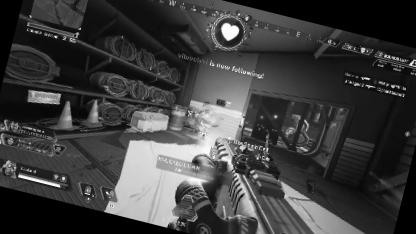Target: (192, 100, 222, 134)
